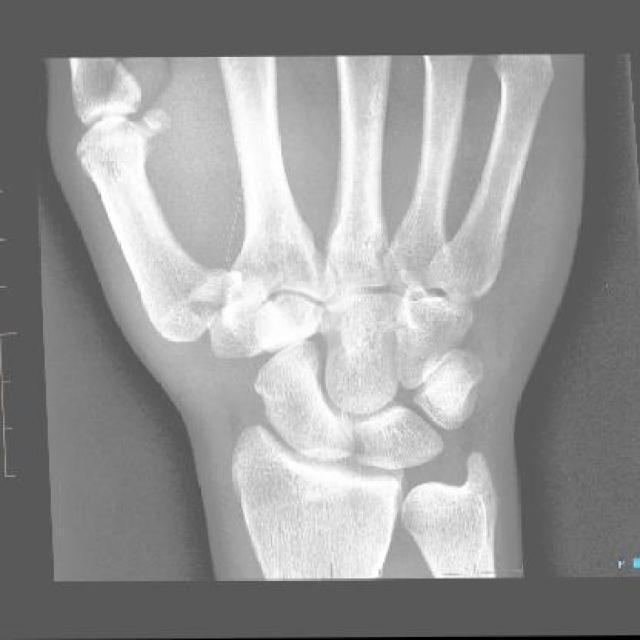Fracture: (180, 262, 243, 321)
